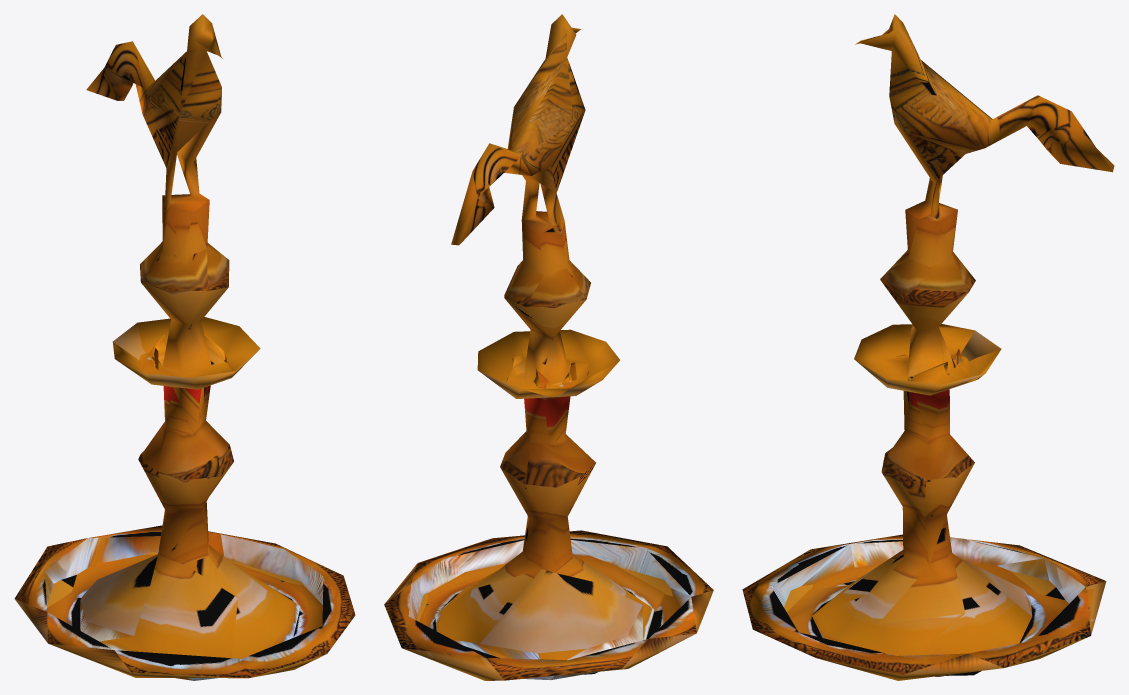
The model's file is chickenlapm.fbx.
3 renders of one model, left to right at view 1: azimuth 30°, elevation 25°; view 2: azimuth 150°, elevation 25°; view 3: azimuth 270°, elevation 25°, orthographic. The views are drawn at different scales.
Visible parts, largest first — view 1: tripo_node_6350a589; view 2: tripo_node_6350a589; view 3: tripo_node_6350a589.
Boxes of the visible parts, x1,y1,x2,y2 form: tripo_node_6350a589: [14, 14, 355, 680]; tripo_node_6350a589: [384, 14, 713, 680]; tripo_node_6350a589: [742, 14, 1114, 680].
Bounding box in the file's own units: 47.24 × 99.55 × 52.92.
1 material, 1 textured.
